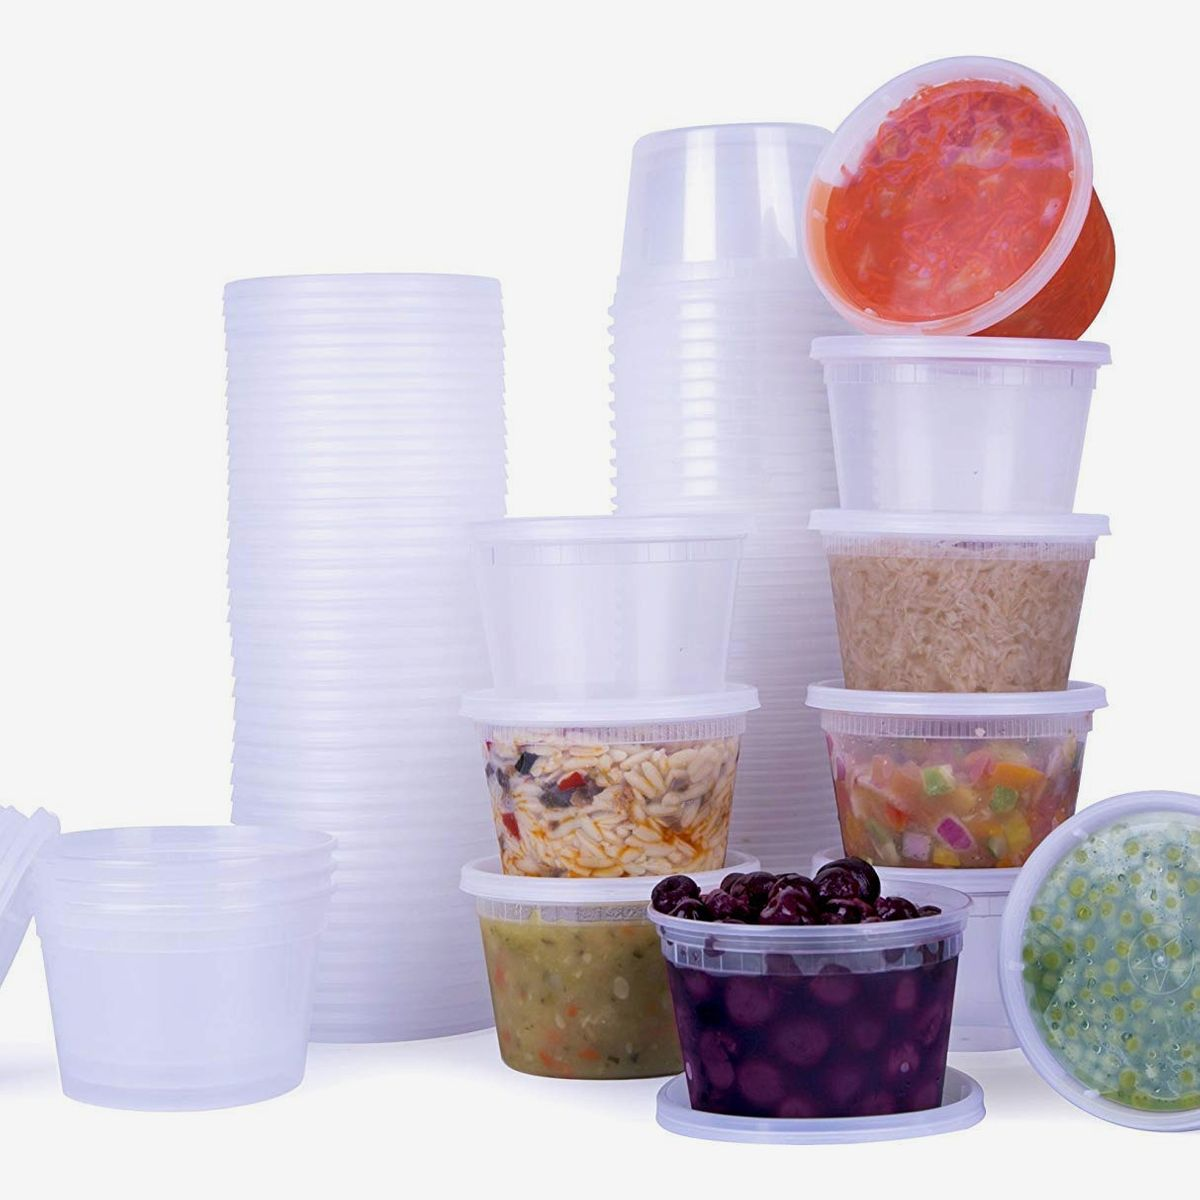PlasticBox: (23, 813, 340, 1121)
